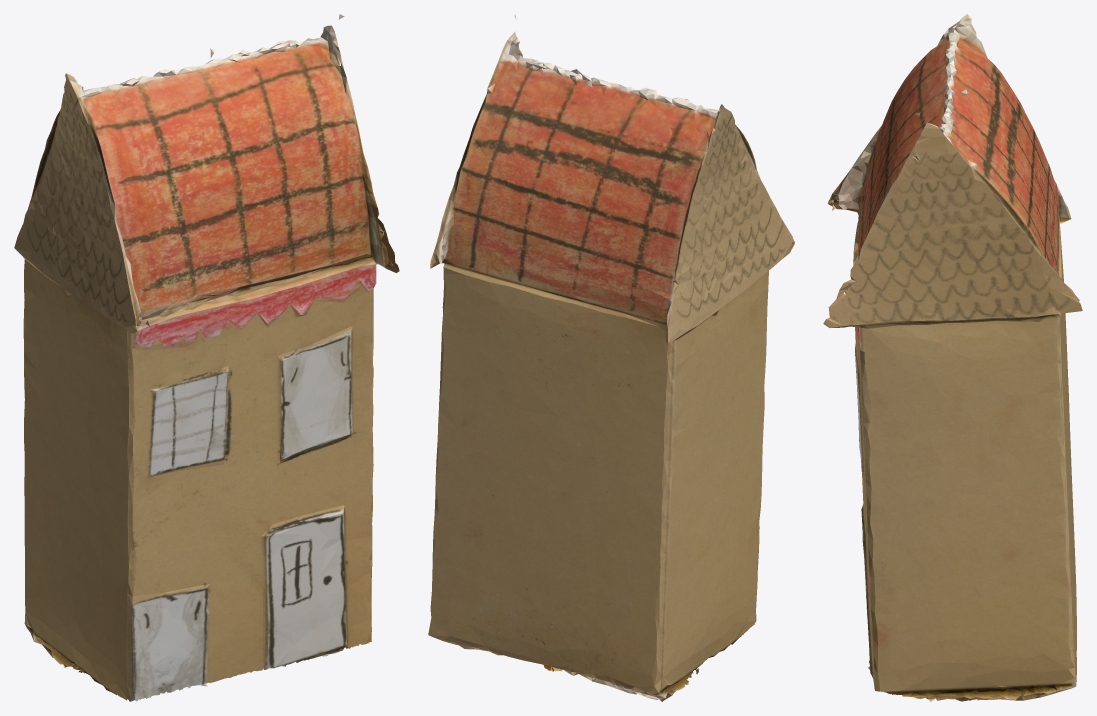
3 views of the same model, side by side, from view 1: azimuth 30°, elevation 25°; view 2: azimuth 150°, elevation 25°; view 3: azimuth 270°, elevation 25° (orthographic). The views are drawn at different scales.
Visible parts, largest first — view 1: Object_0.001; view 2: Object_0.001; view 3: Object_0.001.
Boxes of the visible parts, box(x1,y1,x2,y2) form: Object_0.001: box(14, 14, 399, 701); Object_0.001: box(428, 14, 794, 701); Object_0.001: box(823, 14, 1082, 701).
Bounding box in the file's own units: 10.85 × 24.83 × 9.8.
1 material, 1 textured.
